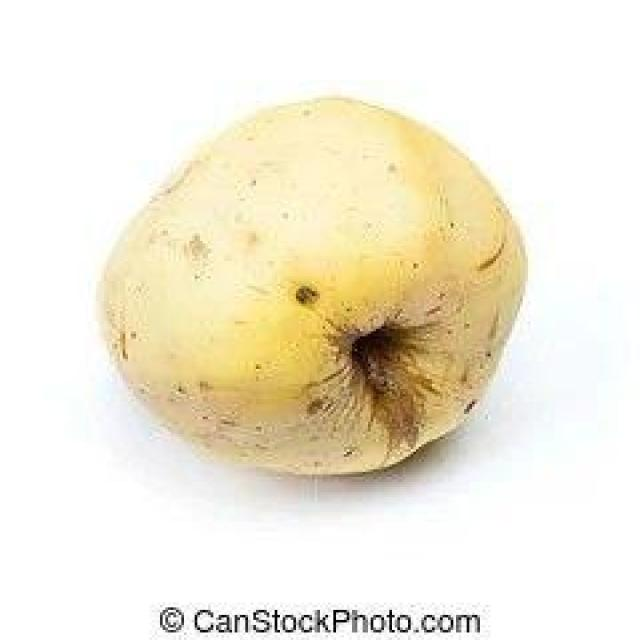Rotten Apple: (96, 97, 523, 478)
